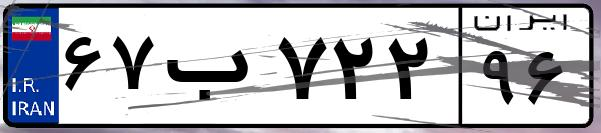2: (385, 28, 445, 110), (330, 28, 385, 110)
6: (57, 26, 110, 100), (525, 38, 570, 115)
7: (270, 28, 330, 110), (110, 28, 158, 98)
9: (475, 38, 525, 113)
ب: (158, 20, 270, 120)
